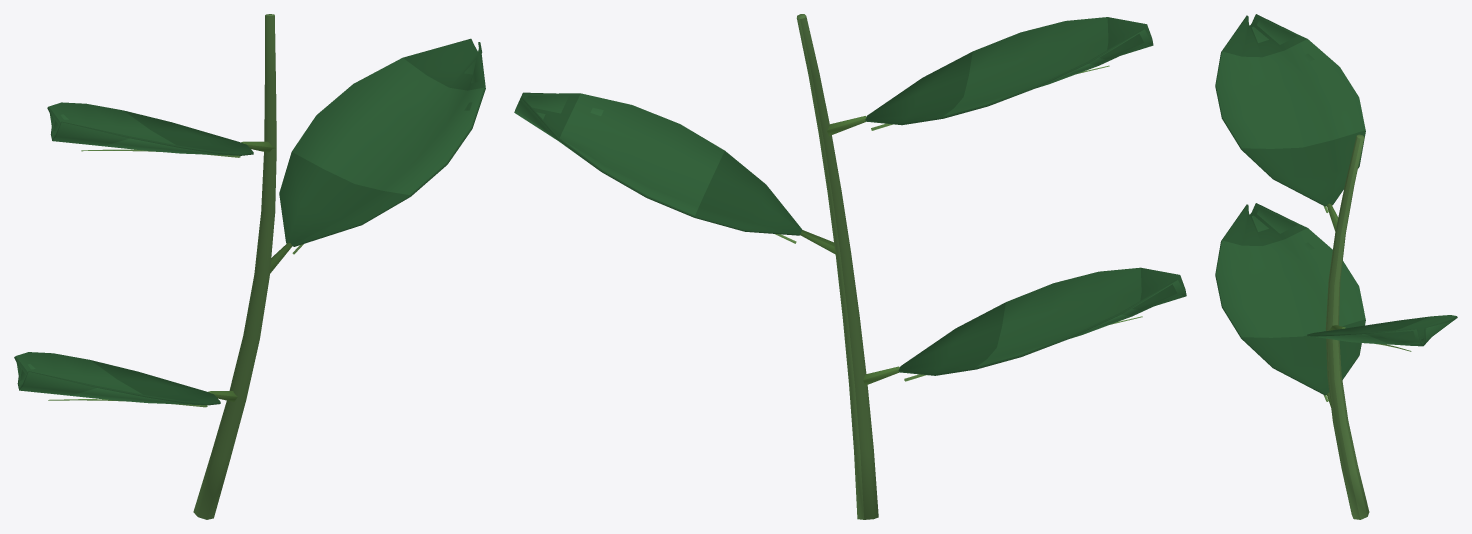
File: garden-orchid-leaves-stem-2.glb
3 renders of one model, left to right at view 1: azimuth 30°, elevation 25°; view 2: azimuth 150°, elevation 25°; view 3: azimuth 270°, elevation 25°, orthographic. The views are drawn at different scales.
Parts seen in each view (by area): view 1: orchid-leaves-stem-2; view 2: orchid-leaves-stem-2; view 3: orchid-leaves-stem-2.
Part boxes in pixels (box(x1,y1,x2,y2)): orchid-leaves-stem-2: box(14, 14, 485, 519); orchid-leaves-stem-2: box(514, 14, 1186, 519); orchid-leaves-stem-2: box(1215, 14, 1457, 519).
Size of the model in its own units: 0.4151 by 0.3475 by 0.1839.
